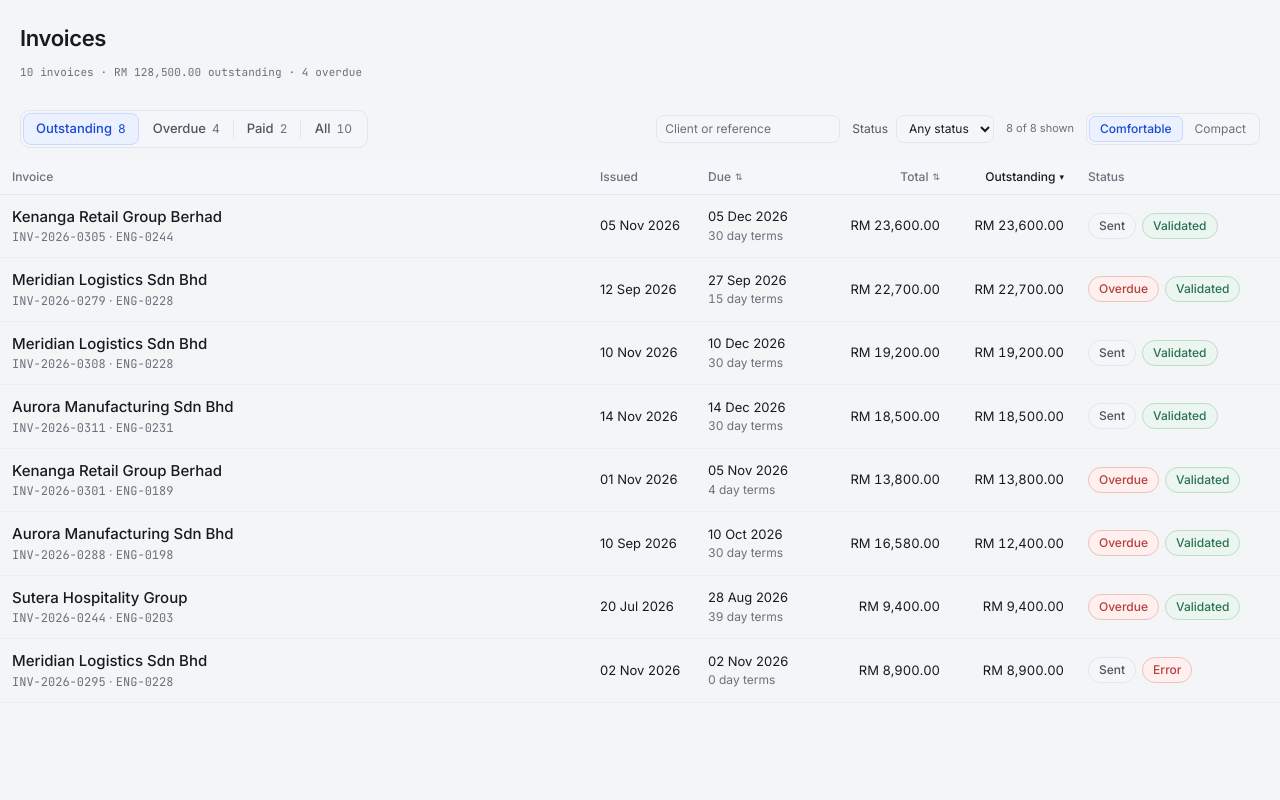
it: the invoices list › distinguishes an empty SEARCH from an empty tab
In the search field named "Search invoices": {"x": 748, "y": 128} [656, 114, 840, 142], type "no such client"
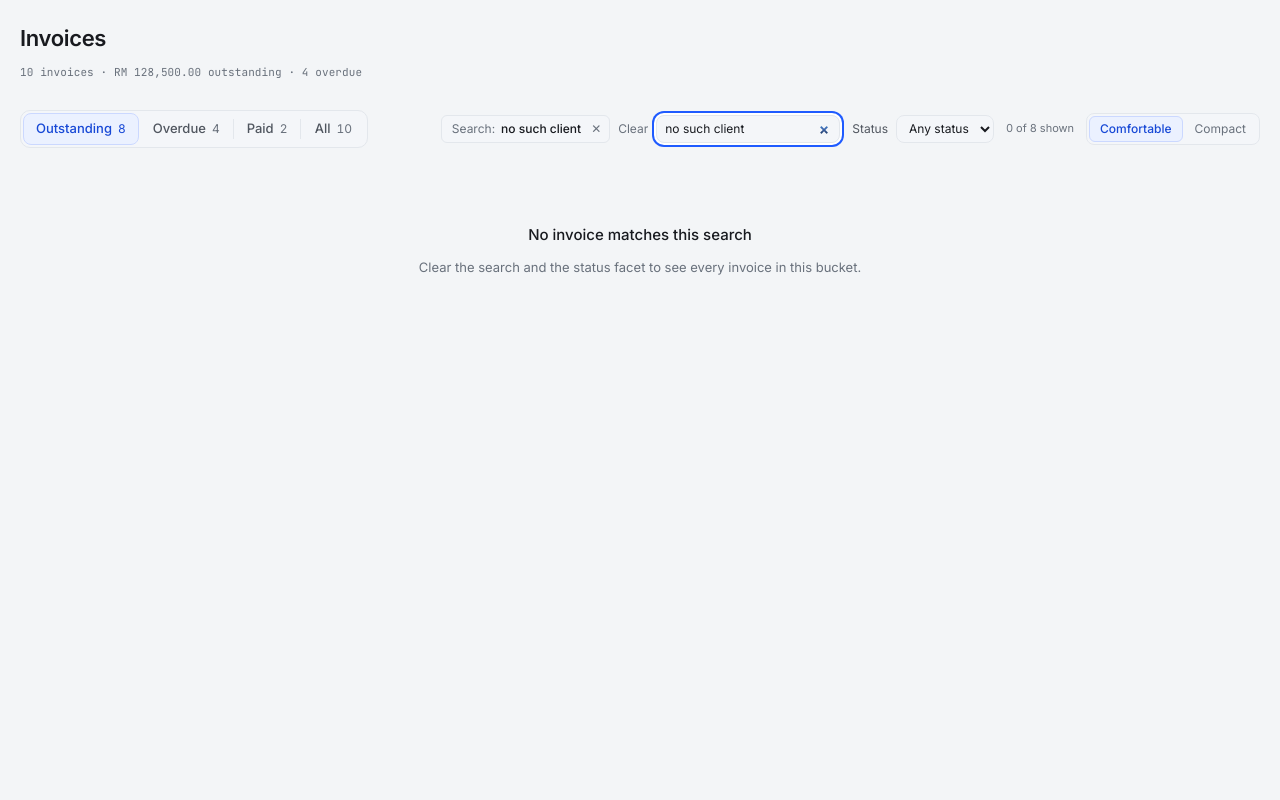
Now the text "No invoice matches this search" is shown, box [528, 224, 752, 246]
